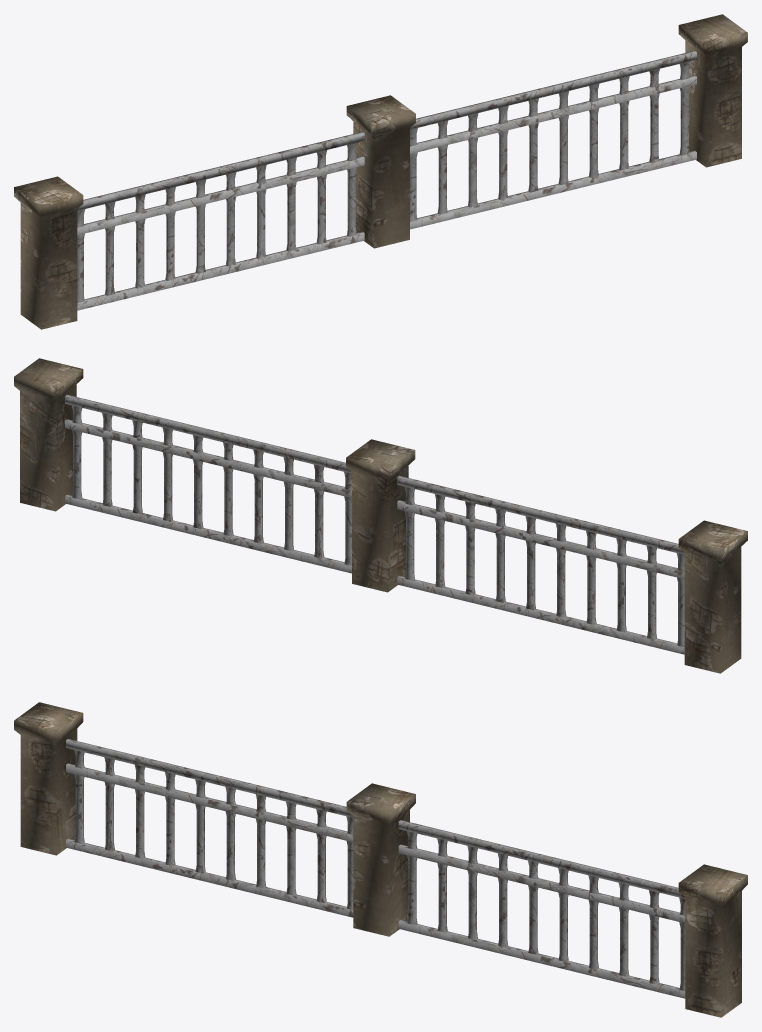
Rendered from Zaun2Segmente.fbx.
3 renders of one model, top to bottom at view 1: azimuth 30°, elevation 25°; view 2: azimuth 150°, elevation 25°; view 3: azimuth 330°, elevation 25°, orthographic.
Parts seen in each view (by area): view 1: Zaun2Segmente; view 2: Zaun2Segmente; view 3: Zaun2Segmente.
Part boxes in pixels (x1,y1,x2,y2): Zaun2Segmente: [14, 14, 747, 329]; Zaun2Segmente: [14, 358, 747, 673]; Zaun2Segmente: [14, 702, 747, 1017].
Size of the model in its own units: 1088 by 186 by 67.08.
